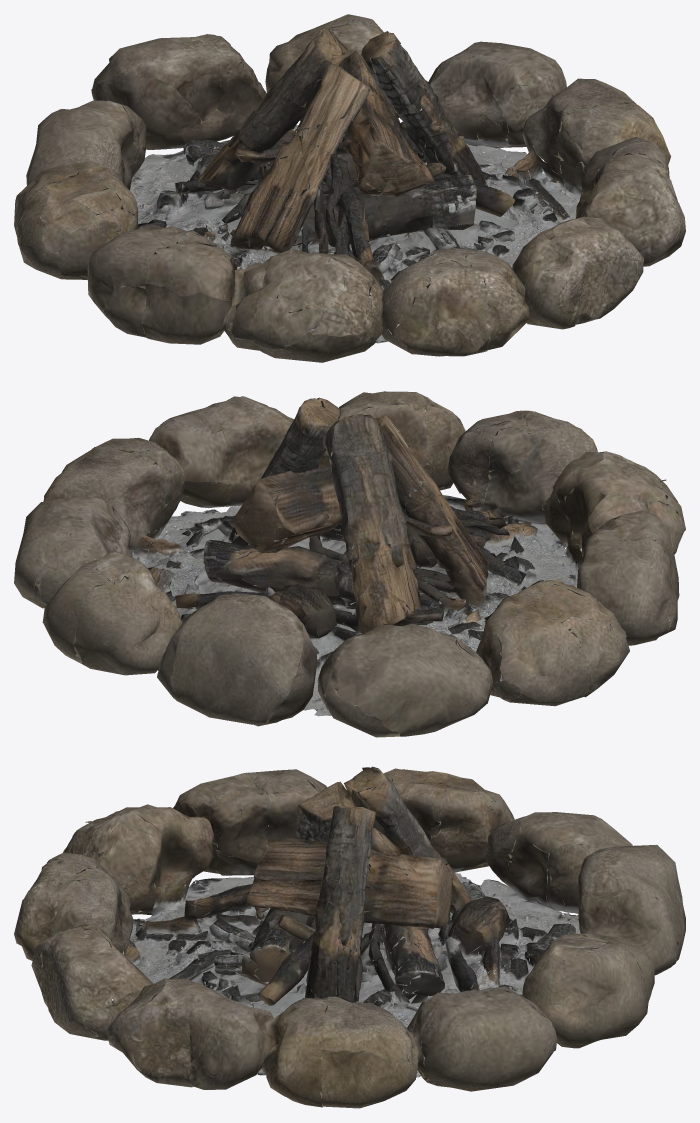
File: campfire.glb
3 renders of one model, top to bottom at view 1: azimuth 30°, elevation 25°; view 2: azimuth 150°, elevation 25°; view 3: azimuth 270°, elevation 25°, orthographic.
Visible parts, largest first — view 1: Mesh_0; view 2: Mesh_0; view 3: Mesh_0.
Part boxes in pixels (box(x1,y1,x2,y2)): Mesh_0: box(14, 14, 685, 362); Mesh_0: box(14, 391, 685, 737); Mesh_0: box(14, 766, 685, 1108).
Bounding box in the file's own units: 1.3 × 0.425 × 1.3.
1 material, 1 textured.
